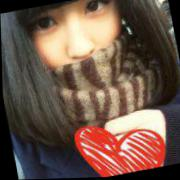WRONG: (23, 1, 138, 107)
